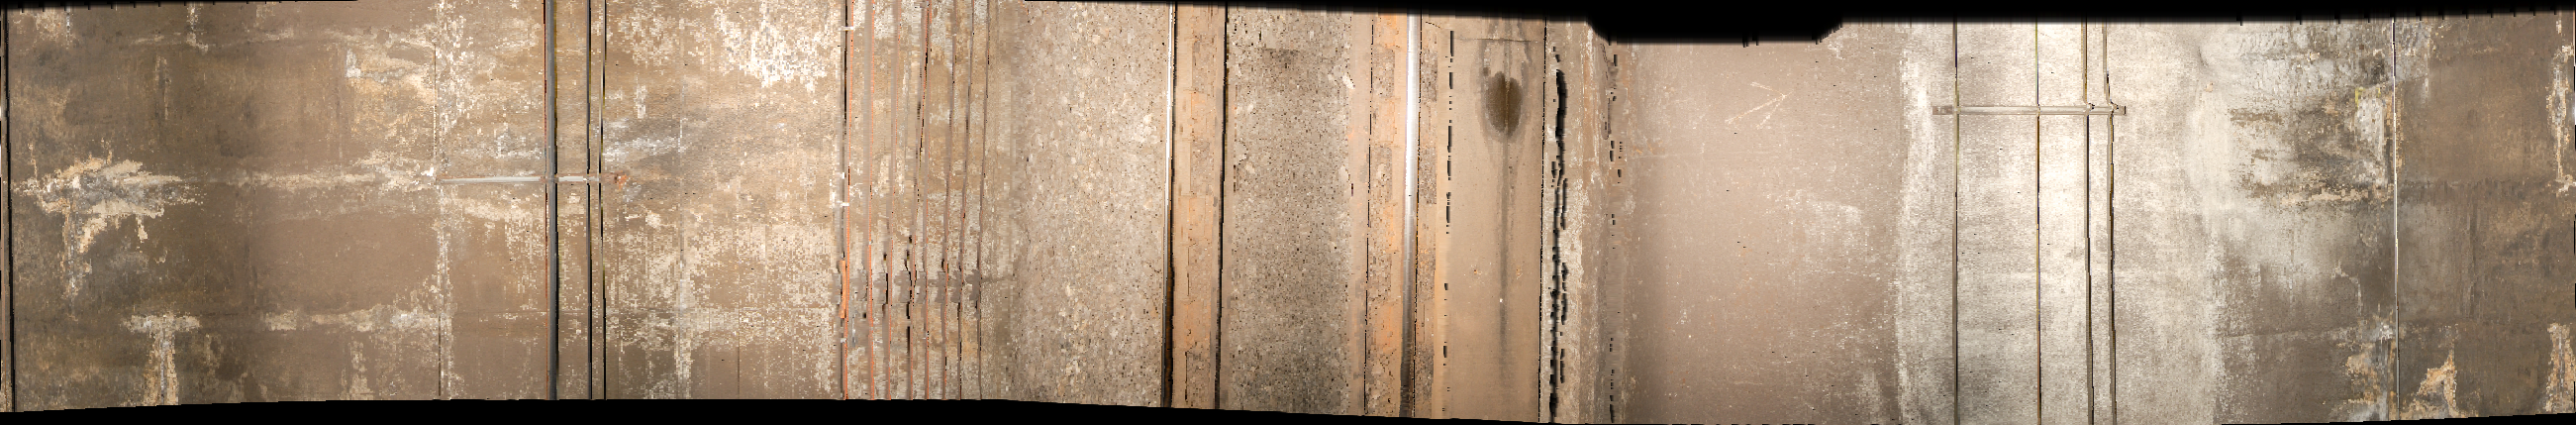pipes: (826, 2, 1005, 425), (1947, 20, 2131, 425), (534, 2, 619, 423)
tracks: (1160, 3, 1566, 425)
